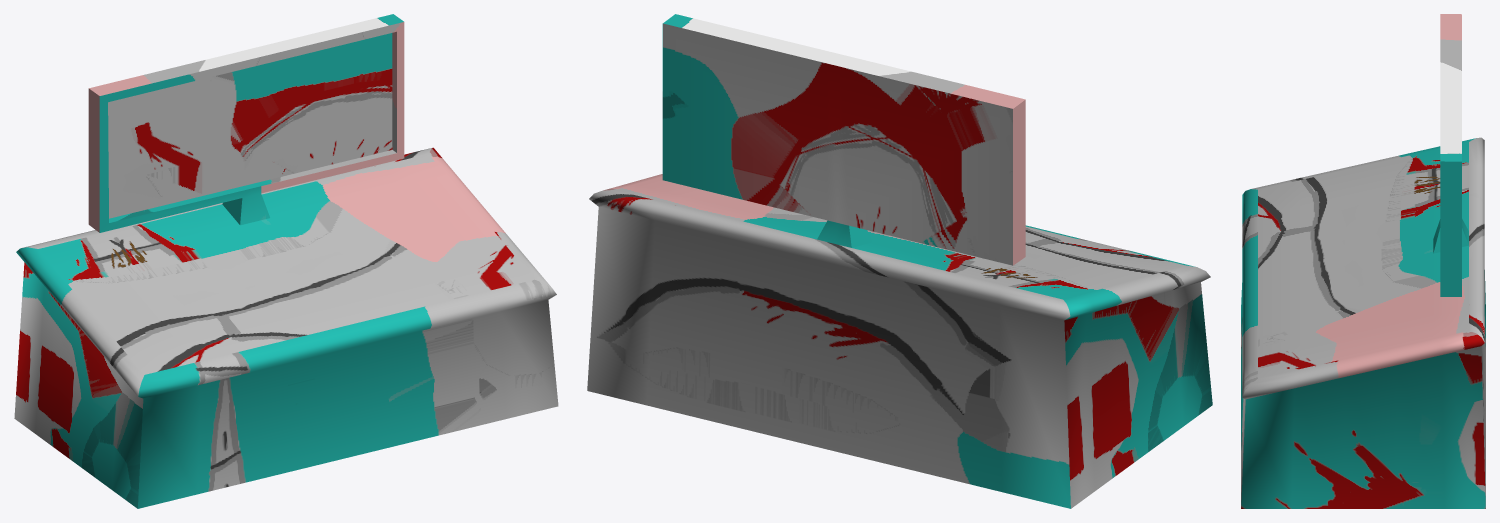
File: mesa.fbx
3 views of the same model, side by side, from view 1: azimuth 30°, elevation 25°; view 2: azimuth 150°, elevation 25°; view 3: azimuth 270°, elevation 25° (orthographic). The views are drawn at different scales.
Visible parts, largest first — view 1: Box001; view 2: Box001; view 3: Box001.
Part boxes in pixels (x1=…): Box001: x1=14, y1=14, x2=558, y2=508; Box001: x1=587, y1=14, x2=1212, y2=508; Box001: x1=1241, y1=14, x2=1485, y2=508.
Size of the model in its own units: 2.76 by 2.03 by 1.4.
Materials: 1 (1 with a texture image).
